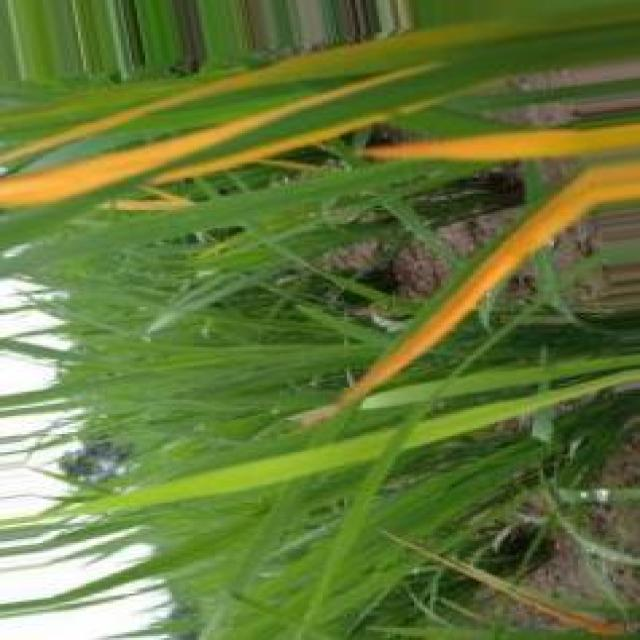Rice Tungro: (305, 162, 639, 424), (6, 66, 435, 207), (0, 75, 251, 164), (365, 124, 639, 160)
